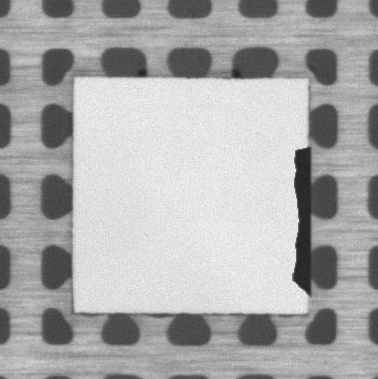DIE_BROKEN: (292, 145, 313, 294)
